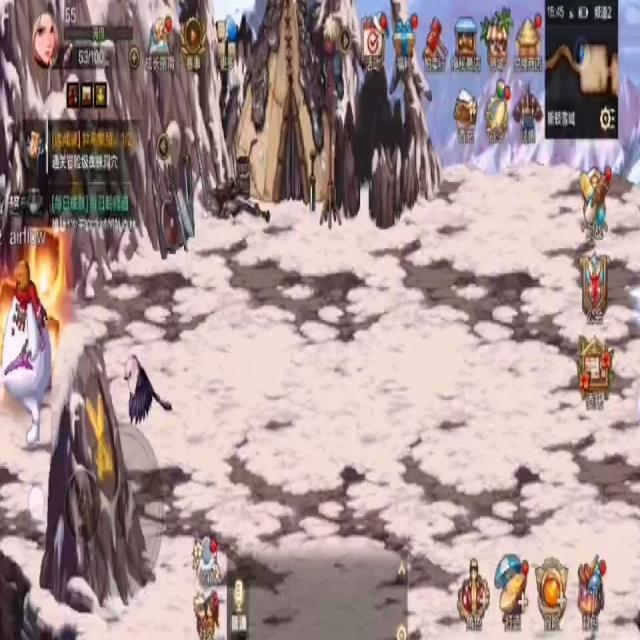player: (1, 250, 54, 447)
